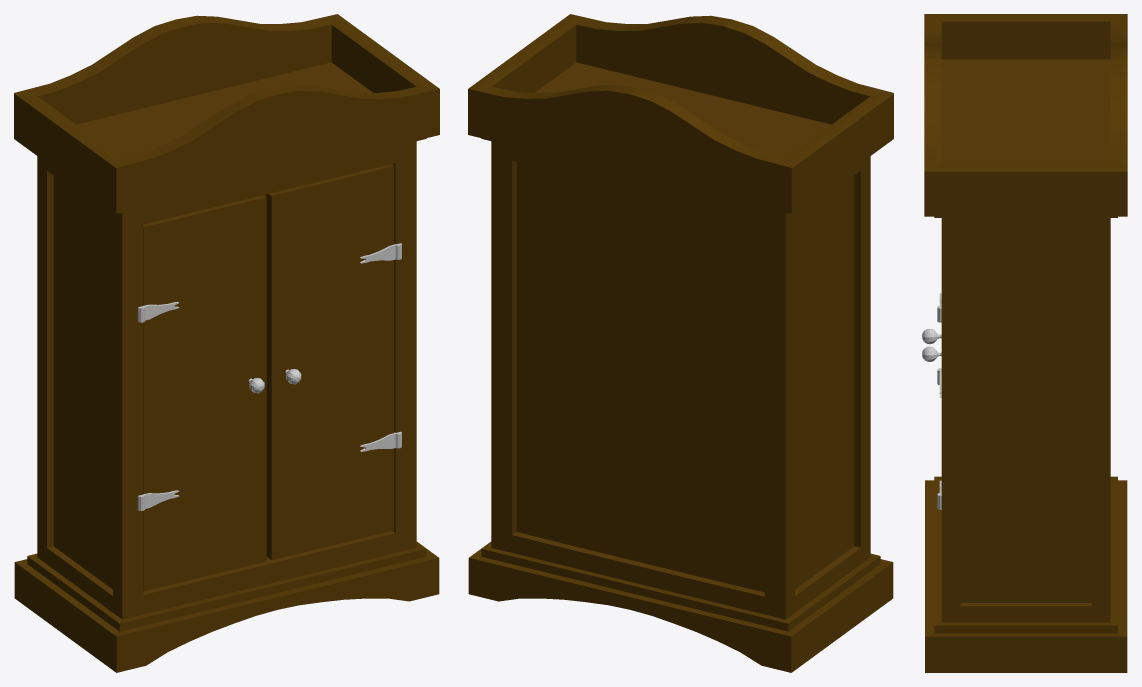
The model's file is Cabinet_low.fbx.
The picture shows the model from 3 angles, left to right: view 1: azimuth 30°, elevation 25°; view 2: azimuth 150°, elevation 25°; view 3: azimuth 270°, elevation 25°; orthographic projection.
Visible parts, largest first — view 1: Cabinet_low; view 2: Cabinet_low; view 3: Cabinet_low.
Boxes of the visible parts, x1,y1,x2,y2 form: Cabinet_low: [14, 14, 439, 672]; Cabinet_low: [468, 14, 893, 672]; Cabinet_low: [922, 14, 1127, 672].
Size of the model in its own units: 165 by 263 by 91.37.
